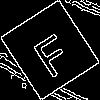F: (25, 24, 77, 80)
